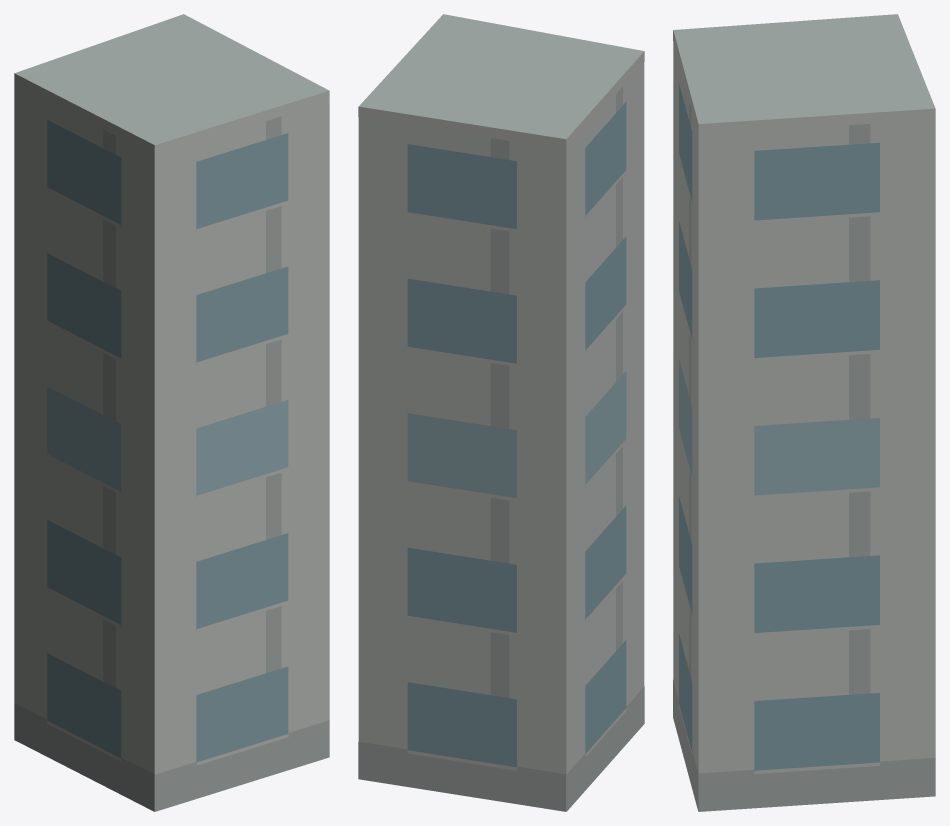
Rendered from survey-upis-32697908.glb.
3 renders of one model, left to right at view 1: azimuth 30°, elevation 25°; view 2: azimuth 150°, elevation 25°; view 3: azimuth 270°, elevation 25°, orthographic. The views are drawn at different scales.
Parts seen in each view (by area): view 1: survey-upis-32697908.tmp; view 2: survey-upis-32697908.tmp; view 3: survey-upis-32697908.tmp.
Part boxes in pixels (box(x1,y1,x2,y2)): survey-upis-32697908.tmp: box(14, 14, 329, 811); survey-upis-32697908.tmp: box(358, 14, 644, 811); survey-upis-32697908.tmp: box(673, 14, 935, 811).
Bounding box in the file's own units: 5.24 × 15.25 × 5.28.
